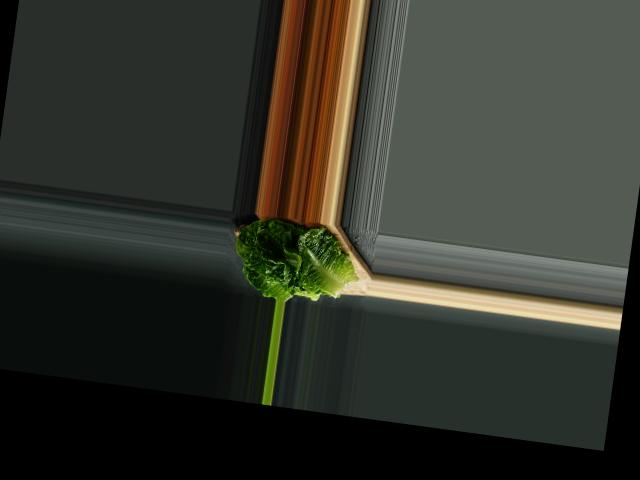lettuce: (225, 210, 360, 309)
